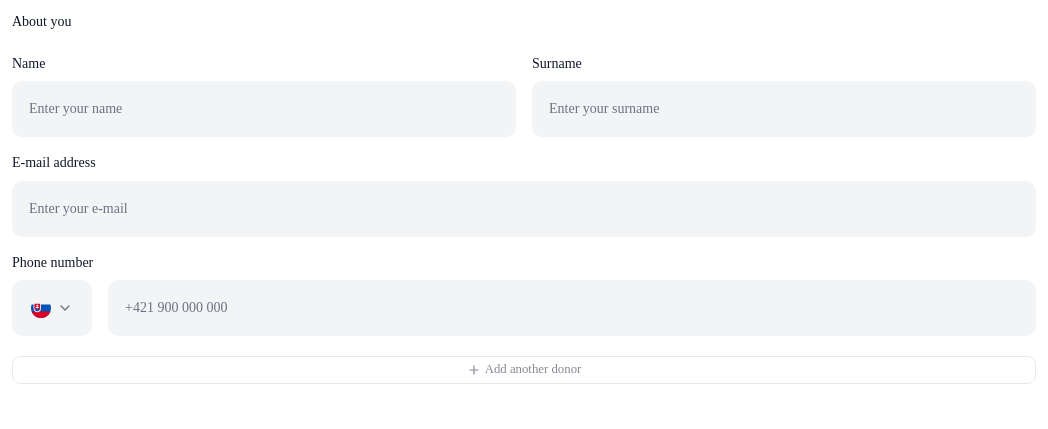
Test: PersonalDetailsStep › renders an inline error when the e-mail field is blurred with an invalid value
Type "not-an-email" into the field labelled "E-mail address" at (524, 208), box [12,180,1036,236]
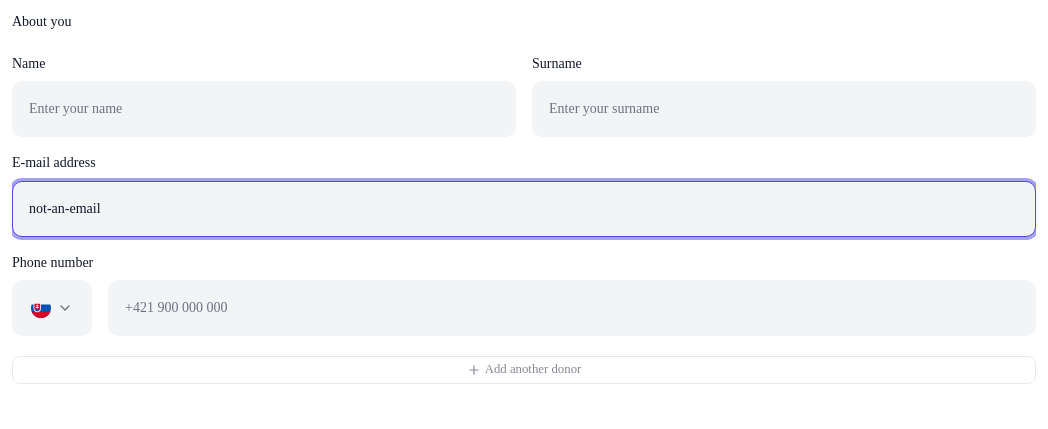
Press Tab
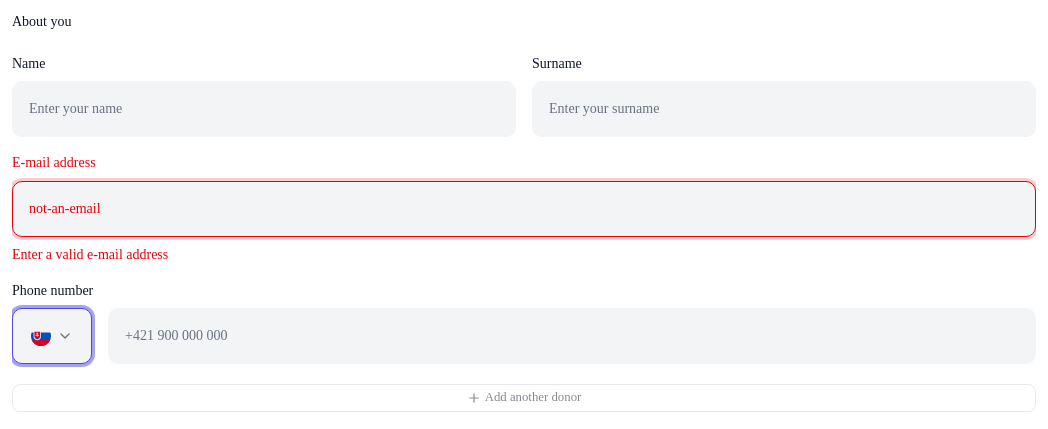
Expected: the message reads "Enter a valid e-mail address", [12,246,168,262]
